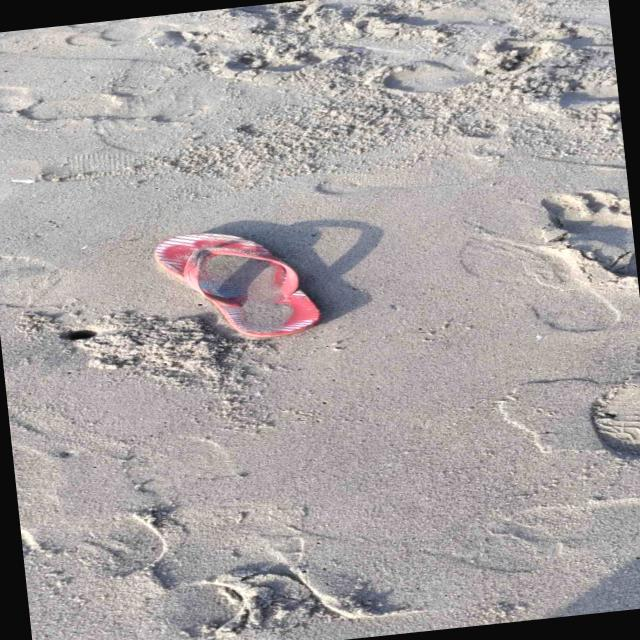dep: (152, 233, 319, 338)
